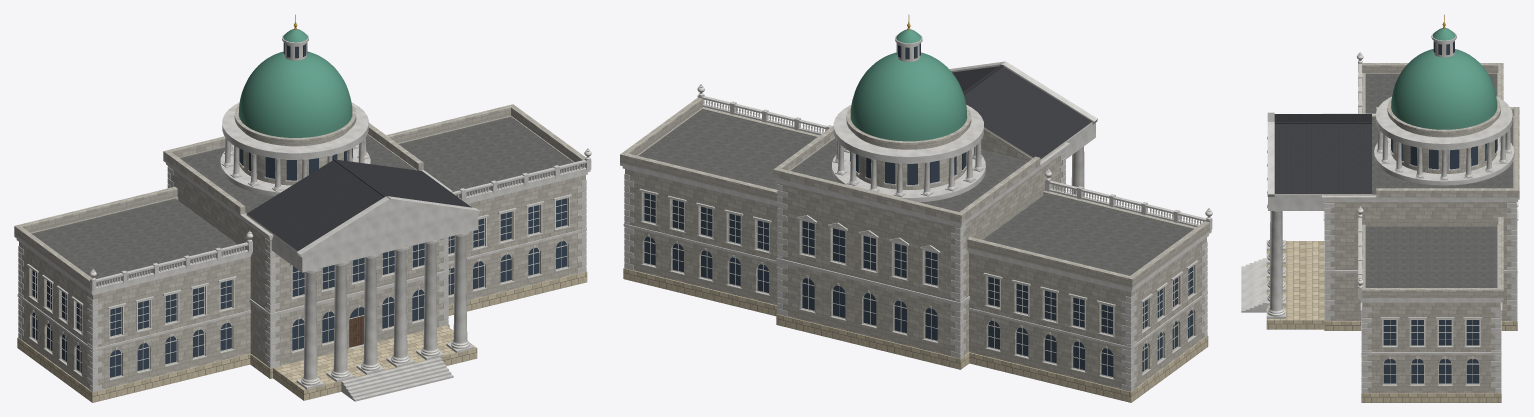
Rendered from domed-palace.glb.
The picture shows the model from 3 angles, left to right: view 1: azimuth 30°, elevation 25°; view 2: azimuth 150°, elevation 25°; view 3: azimuth 270°, elevation 25°; orthographic projection. The views are drawn at different scales.
Parts seen in each view (by area): view 1: Domed_Palace; view 2: Domed_Palace; view 3: Domed_Palace.
Boxes of the visible parts, x1,y1,x2,y2 form: Domed_Palace: (14,14,591,402); Domed_Palace: (620,14,1212,402); Domed_Palace: (1241,14,1519,402).
Size of the model in its own units: 50.84 by 28.7 by 26.2.
Materials: 14 (7 with a texture image).
